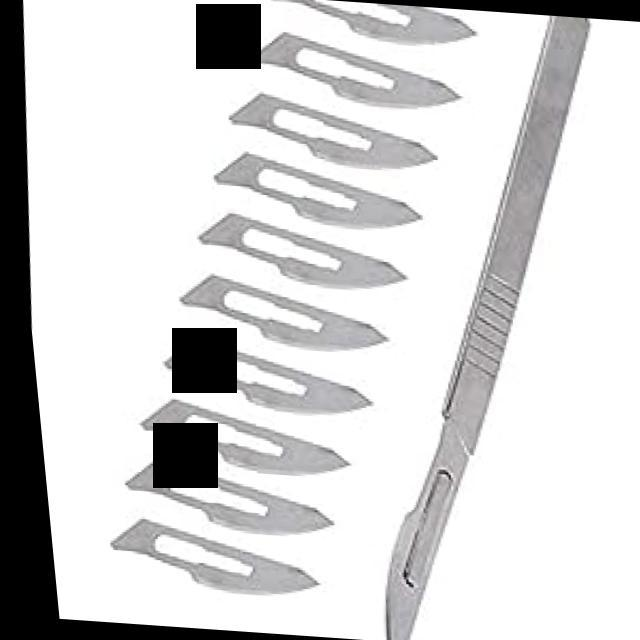Knife handle: (343, 4, 640, 610)
Surgical blade: (341, 410, 482, 640), (97, 520, 330, 610), (104, 466, 338, 552), (118, 402, 354, 483), (185, 216, 408, 301), (149, 336, 367, 422), (242, 34, 464, 115), (221, 94, 438, 174), (168, 278, 384, 358), (201, 156, 424, 233), (273, 0, 480, 54)
